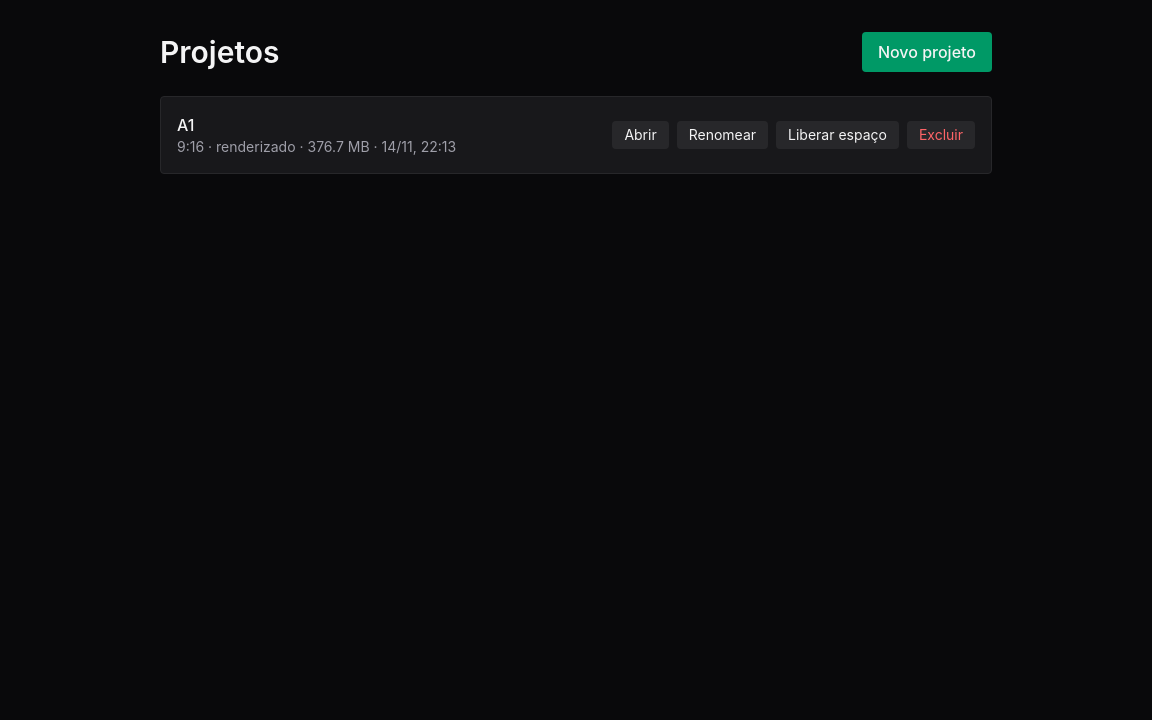
Test case: ProjectsScreen — excluir › pede confirmação antes e diz que o render sobrevive
Click the button with aria-label "excluir A1".
click(941, 135)  # box top-left (907, 121), bottom-right (975, 149)
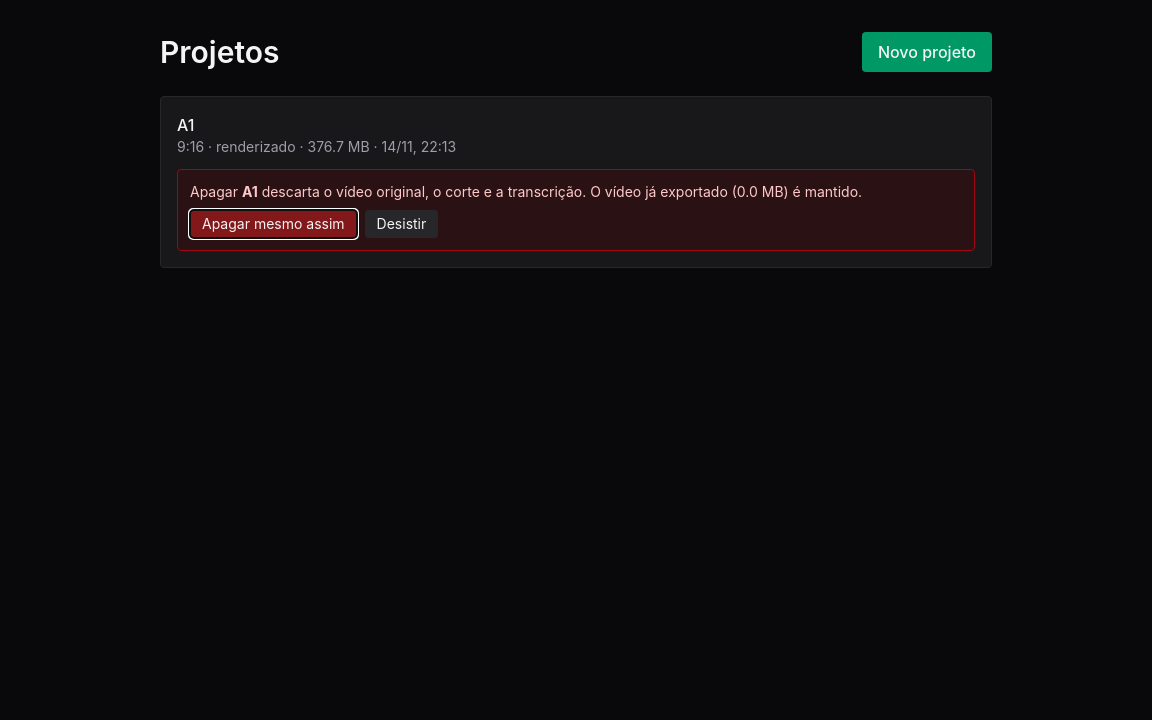
Expected: the text "vídeo já exportado" is shown, top-left (586, 183), bottom-right (862, 200)
